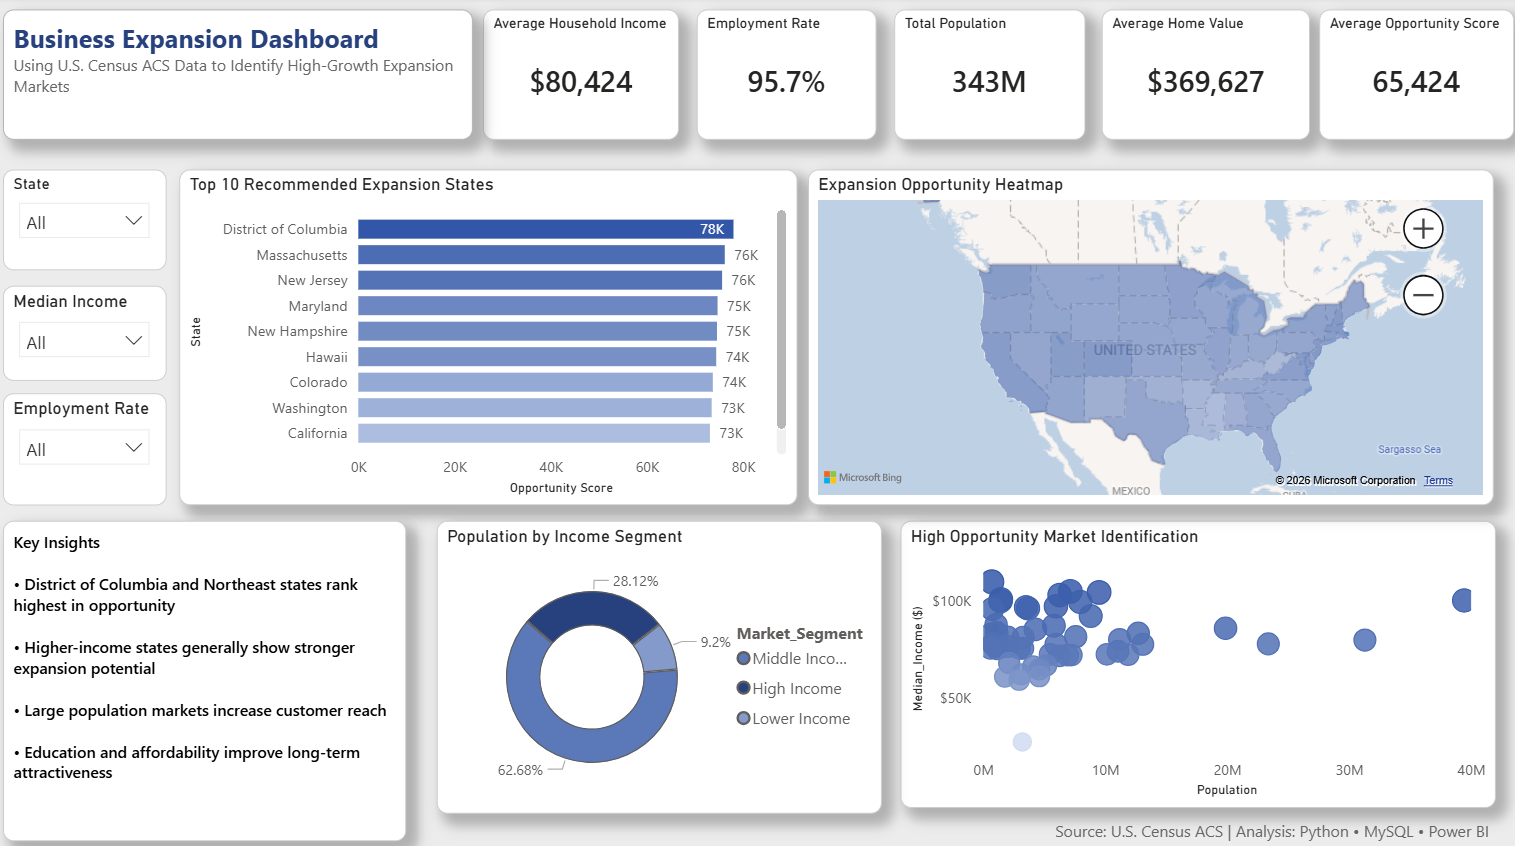

The dashboard page shown, as its layout file describes it:
{"tool":"powerbi","page":{"name":"Executive Summary","canvas":[1280,720],"ordinal":1},"visuals":[{"type":"cardVisual","title":"Average Household Income","fields":{"Data":["ACS_Master_Dataset.Formatted Avg Income"]},"box":[408.1,10.5,165.1,109.3],"z":0},{"type":"slicer","title":"Median Income","fields":{"Values":["ACS_Master_Dataset.Median_Income"]},"box":[4.7,243,137.2,80.2],"z":1000},{"type":"slicer","title":"State","fields":{"Values":["ACS_Master_Dataset.State"]},"box":[4.7,145.3,137.2,84.9],"z":2000},{"type":"slicer","title":"Employment Rate","fields":{"Values":["ACS_Master_Dataset.Employment_Rate"]},"box":[4.7,333.7,137.2,94.2],"z":3000},{"type":"clusteredBarChart","title":"Top 10 Recommended Expansion States","fields":{"Category":["ACS_Master_Dataset.State"],"Y":["Max(ACS_Master_Dataset.Opportunity_Score)"]},"box":[152.3,145.3,519.8,282.6],"z":4000},{"type":"scatterChart","title":"High Opportunity Market Identification","fields":{"Size":["Sum(ACS_Master_Dataset.Opportunity_Score)1"],"Y":["ACS_Master_Dataset.Median_Income"],"X":["ACS_Master_Dataset.Population"]},"box":[759.3,440.7,501.2,241.9],"z":5000},{"type":"filledMap","title":"Expansion Opportunity Heatmap","fields":{"Category":["ACS_Master_Dataset.State"]},"box":[681.4,145.3,576.7,282.6],"z":6000},{"type":"cardVisual","title":"Employment Rate","fields":{"Data":["ACS_Master_Dataset.Avg Employment"]},"box":[587.2,10.5,151.2,109.3],"z":7000},{"type":"cardVisual","title":"Total Population","fields":{"Data":["ACS_Master_Dataset.Total Population"]},"box":[753.5,10.5,160.5,109.3],"z":8000},{"type":"cardVisual","title":"Average Home Value","fields":{"Data":["ACS_Master_Dataset.Avg Household_Income"]},"box":[927.9,10.5,175.6,109.3],"z":9000},{"type":"donutChart","title":"Population by Income Segment","fields":{"Category":["ACS_Master_Dataset.Market_Segment"],"Y":["Sum(ACS_Master_Dataset.Population)"]},"box":[368.6,440.7,374.4,246.5],"z":10000},{"type":"cardVisual","title":"Average Opportunity Score","fields":{"Data":["ACS_Master_Dataset.Avg Opportunity"]},"box":[1111.6,10.5,164,109.3],"z":11000},{"type":"textbox","box":[4.7,440.7,339.5,269.8],"z":12000},{"type":"textbox","box":[883.7,687.2,396.5,32.6],"z":13000},{"type":"textbox","box":[4.7,10.5,395.3,109.3],"z":14000}]}

Visuals, with their boxes in screenshot pixels (x1, y1, x2, y2), scaled from the page's 1280x720 canvas onto the 1515x846 screenshot:
"Average Household Income" cardVisual: 483/12/678/141
"Median Income" slicer: 6/286/168/380
"State" slicer: 6/171/168/270
"Employment Rate" slicer: 6/392/168/503
"Top 10 Recommended Expansion States" clusteredBarChart: 180/171/795/503
"High Opportunity Market Identification" scatterChart: 899/518/1492/802
"Expansion Opportunity Heatmap" filledMap: 807/171/1489/503
"Employment Rate" cardVisual: 695/12/874/141
"Total Population" cardVisual: 892/12/1082/141
"Average Home Value" cardVisual: 1098/12/1306/141
"Population by Income Segment" donutChart: 436/518/879/807
"Average Opportunity Score" cardVisual: 1316/12/1510/141
textbox: 6/518/407/835
textbox: 1046/807/1514/845
textbox: 6/12/473/141
